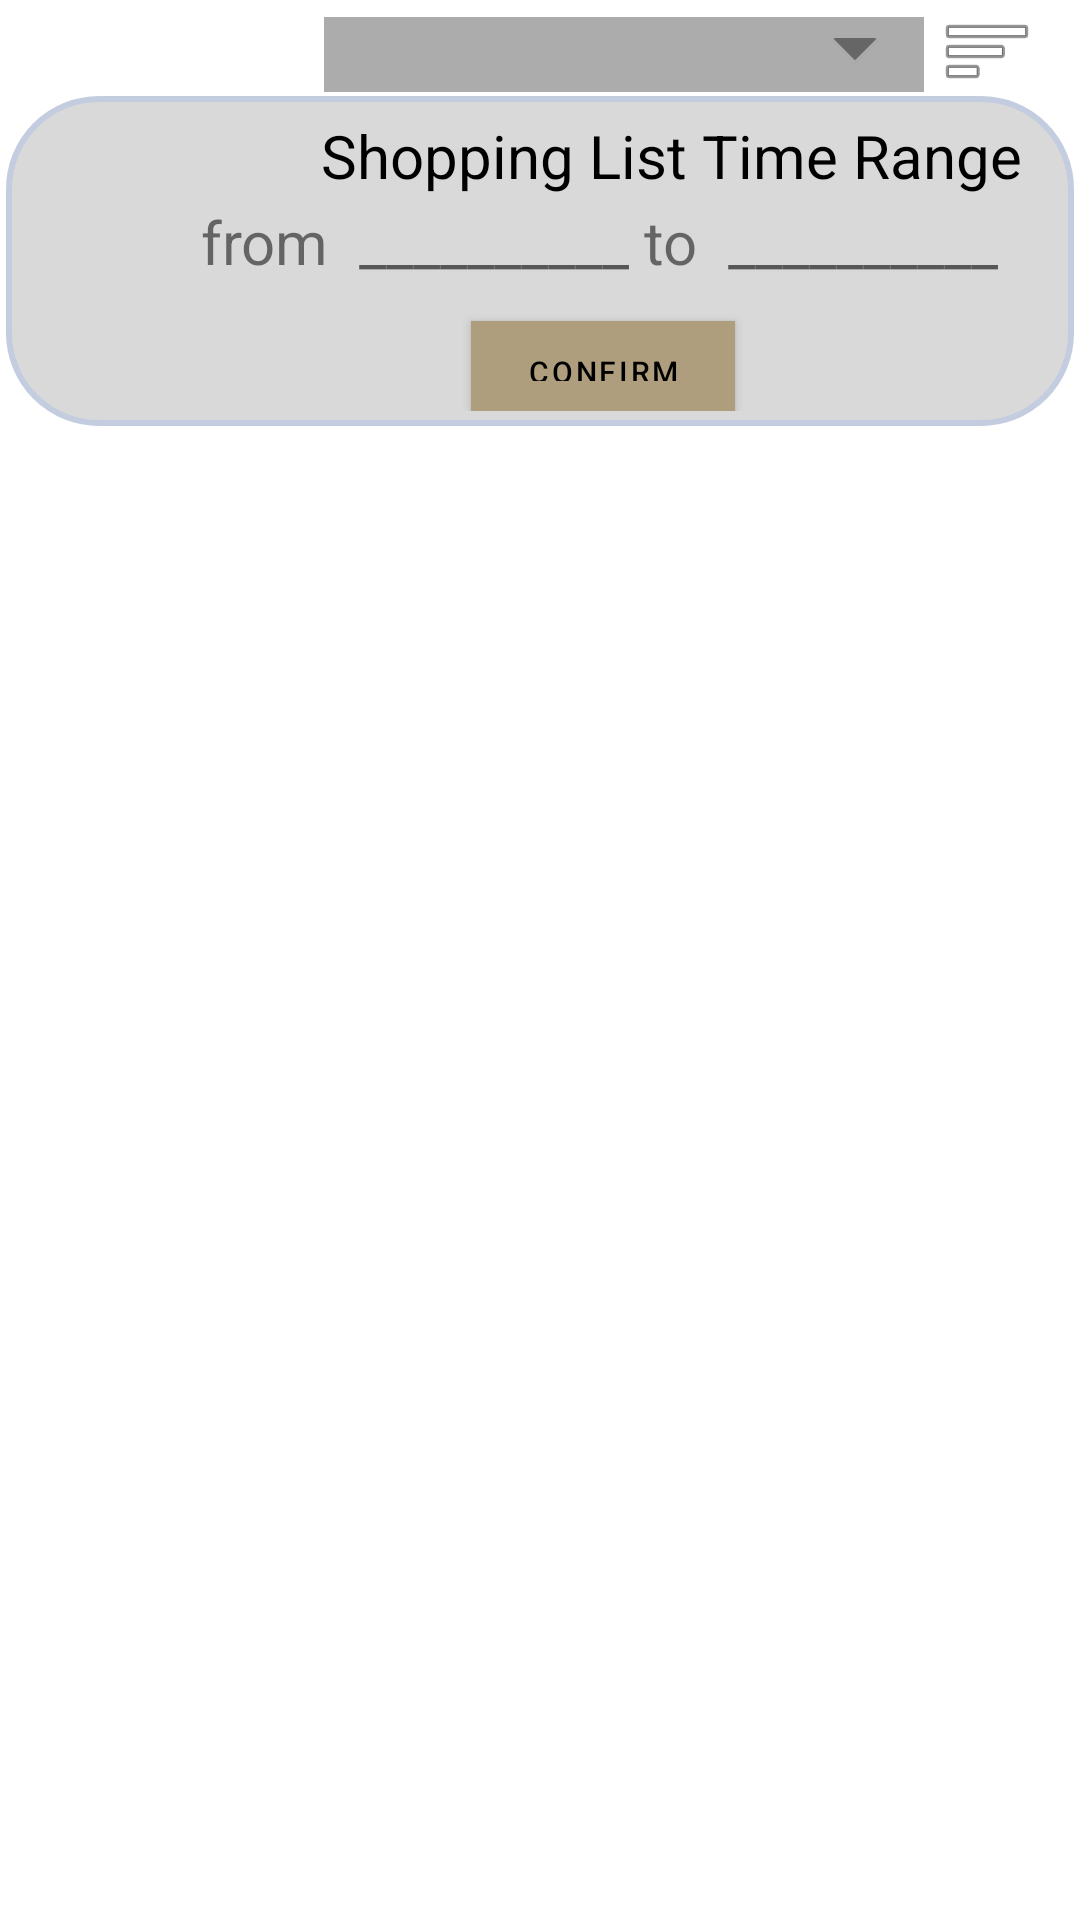

Screen size 1080*1920. Icon name, then its box in pixels as bbox(x1, y1, x2, y2):
sort by size: bbox(946, 25, 1028, 78)
